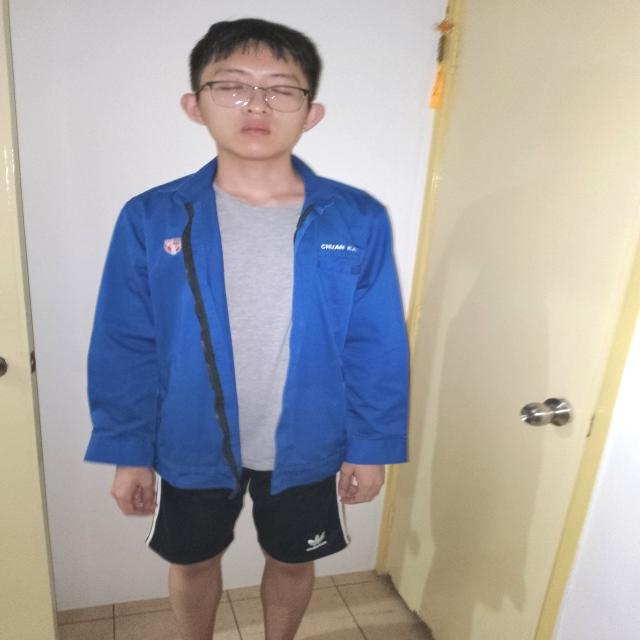person_with_labcoat: (85, 19, 408, 640)
